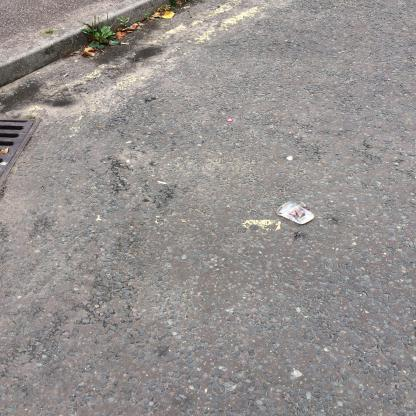plastik: (278, 202, 316, 226)
